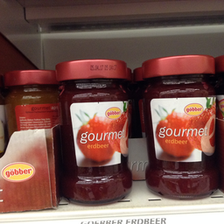jam: (54, 58, 134, 205), (142, 55, 218, 200), (6, 70, 55, 140)
